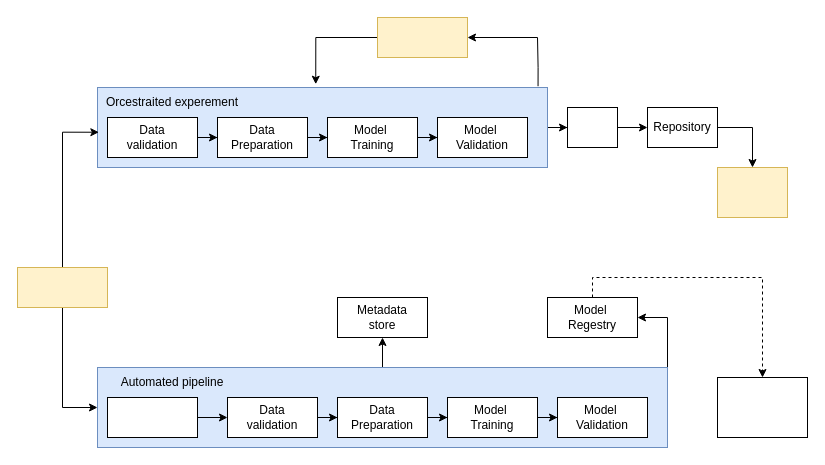
Image size: 825x465. Some labels were removed from this diagram. The shapes that lost their labels are listed below. From the top down, each one's box as (x1, y1, x2, y2) in pixels, then its label:
(376, 16, 468, 58): Model Analysis
(566, 106, 618, 148): Code
(716, 166, 788, 218): Pipeline deployment clearml
(16, 266, 108, 308): Feature Store
(106, 396, 198, 438): Data extraction
(716, 376, 808, 438): Triton inference server
